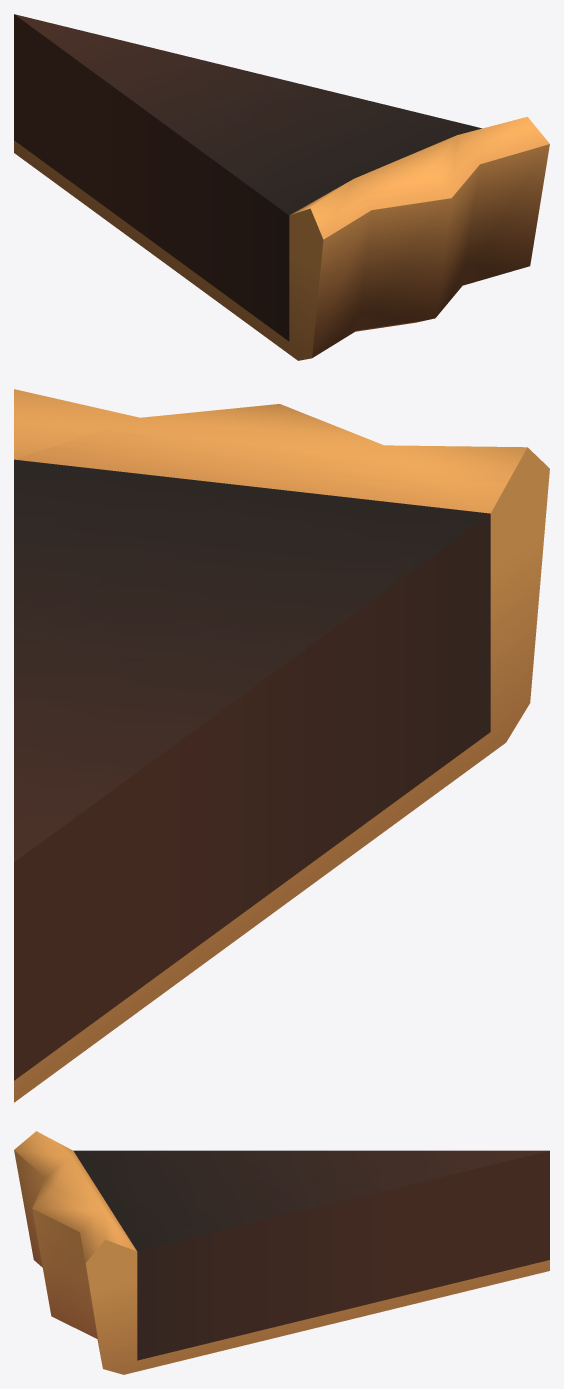
File: m_TarteAuChocolat01_Slice.fbx
The picture shows the model from 3 angles, top to bottom: view 1: azimuth 30°, elevation 25°; view 2: azimuth 150°, elevation 25°; view 3: azimuth 270°, elevation 25°; orthographic projection. The views are drawn at different scales.
Visible parts, largest first — view 1: m_TarteAuChocolat01_Slice; view 2: m_TarteAuChocolat01_Slice; view 3: m_TarteAuChocolat01_Slice.
Boxes of the visible parts, left/top/right/bottom form: m_TarteAuChocolat01_Slice: left=14, top=14, right=549, bottom=360; m_TarteAuChocolat01_Slice: left=14, top=389, right=549, bottom=1102; m_TarteAuChocolat01_Slice: left=14, top=1131, right=549, bottom=1374.
Bounding box in the file's own units: 7 × 4.03 × 14.
